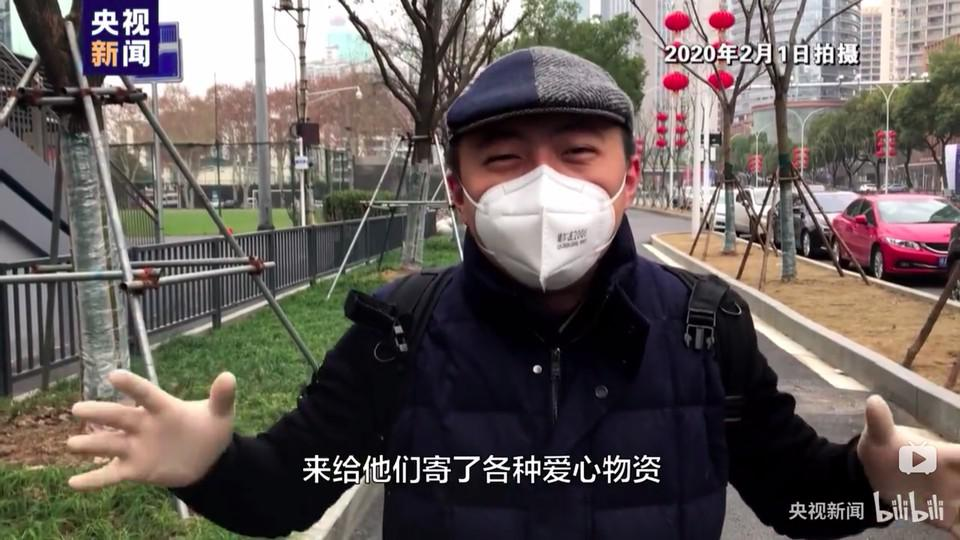OK: (461, 112, 624, 285)
